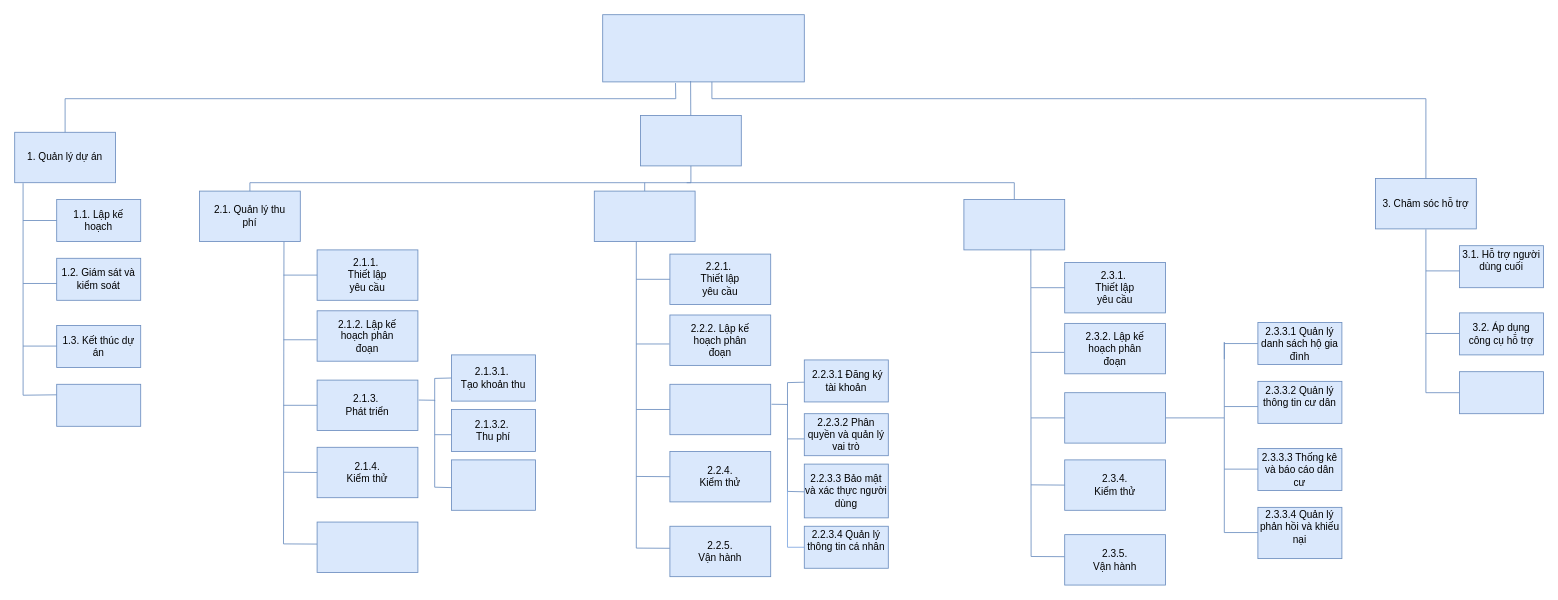
Some shapes in this 1558 by 600 pixel diagram are drawn without their labels. The centre of each missing label's shape, as x and y in pixels:
1.4. Quản lý hợp đồng: the point at 98,404
2.1.3.3. Thống kê các khoản đóng góp: the point at 493,484
2.1.5. Vận hành: the point at 367,546
2.2. Quản lý người dùng: the point at 644,216
2.2.3. Phát triển: the point at 720,409
2.3. Quản lý hộ gia đình: the point at 1014,224
2.3.3. Phát triển: the point at 1115,417
2.Xây dựng phần mềm: the point at 690,140
3.3. Áp dụng tiêu chuẩn: the point at 1501,392
Phần mềm quản lý và thu phí ở chung cư Blue Moon: the point at 703,48
